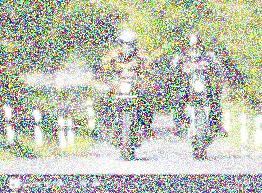Vehicle: (161, 59, 242, 160), (85, 60, 160, 161)
